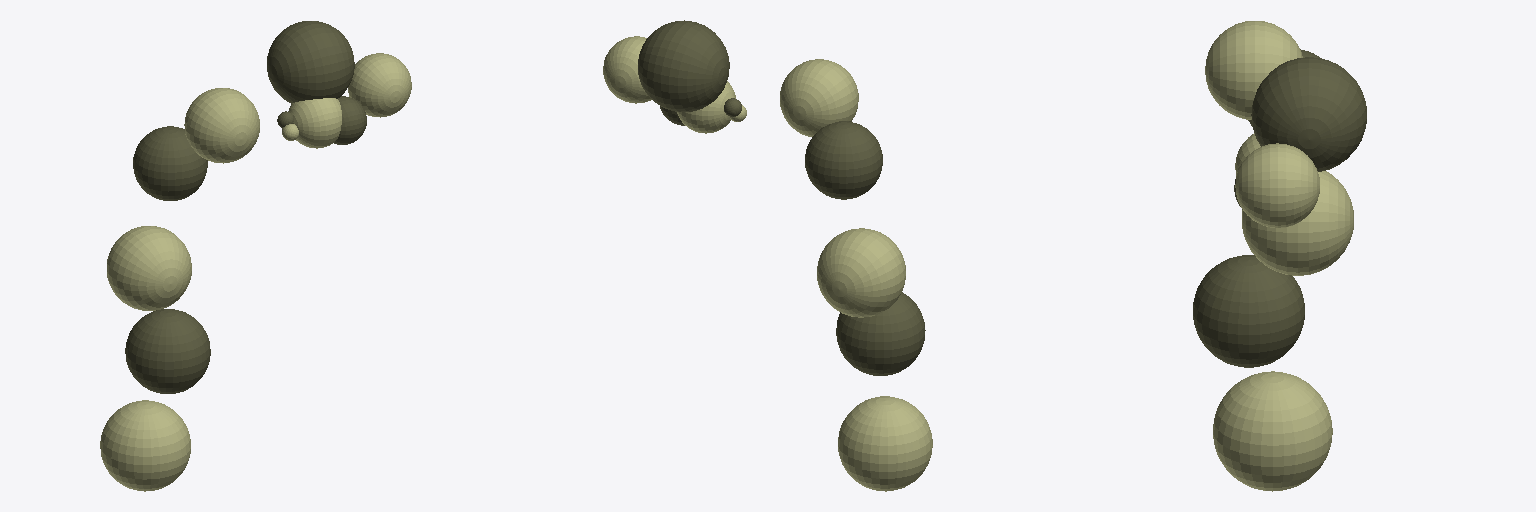
robot.urdf — panda:
<?xml version='1.0' encoding='utf-8'?>
<robot xmlns:drake="http://drake.mit.edu" name="panda">
    <link name="world" /><joint name="world_to_base" type="fixed"><parent link="world" /><child link="panda_link0" /><origin xyz="0 0 0" rpy="0 0 0" /></joint>
  <link name="panda_link0">
    <inertial>
      <mass value="2.92" />
      <origin xyz="-0.025566 -2.88e-05 0.057332" rpy="0 0 0" />
      <inertia ixx="0.00782229414331" ixy="-1.56191622996e-05" ixz="-0.00126005738123" iyy="0.0109027971813" iyz="1.08233858202e-05" izz="0.0102355503949" />
    </inertial>
    <collision><origin rpy="0 0 0" xyz="0 0 0" /><geometry><sphere radius="0.001" /></geometry></collision></link>
  <link name="panda_link1">
    <inertial>
      <mass value="2.74" />
      <origin xyz="0 -0.0324958 -0.0675818" rpy="0 0 0" />
      <inertia ixx="0.0180416958283" ixy="0.0" ixz="0.0" iyy="0.0159136071891" iyz="0.0046758424612" izz="0.00620690827127" />
    </inertial>
    <collision><origin rpy="0 0 0" xyz="0 0 0" /><geometry><sphere radius="0.001" /></geometry></collision></link>
  <joint name="panda_joint1" type="revolute">
    <origin rpy="0 0 0" xyz="0 0 0.333" />
    <parent link="panda_link0" />
    <child link="panda_link1" />
    <axis xyz="0 0 1" />
    <limit effort="87" lower="-2.8973" upper="2.8973" velocity="2.1750" />
  </joint>
  <link name="panda_link2">
    <inertial>
      <mass value="2.74" />
      <origin xyz="0 -0.06861 0.0322285" rpy="0 0 0" />
      <inertia ixx="0.0182856182281" ixy="0.0" ixz="0.0" iyy="0.00621358421175" iyz="-0.00472844221905" izz="0.0161514346309" />
    </inertial>
    <collision><origin rpy="0 0 0" xyz="0 0 0" /><geometry><sphere radius="0.001" /></geometry></collision></link>
  <joint name="panda_joint2" type="revolute">
    <origin rpy="-1.57079632679 0 0" xyz="0 0 0" />
    <parent link="panda_link1" />
    <child link="panda_link2" />
    <axis xyz="0 0 1" />
    <limit effort="87" lower="-1.7628" upper="1.7628" velocity="2.1750" />
  </joint>
  <link name="panda_link3">
    <inertial>
      <mass value="2.38" />
      <origin xyz="0.0469893 0.0316374 -0.031704" rpy="0 0 0" />
      <inertia ixx="0.00771376630908" ixy="-0.00248490625138" ixz="-0.00332147581033" iyy="0.00989108008727" iyz="-0.00217796151484" izz="0.00811723558464" />
    </inertial>
    <collision><origin rpy="0 0 0" xyz="0 0 0" /><geometry><sphere radius="0.001" /></geometry></collision></link>
  <joint name="panda_joint3" type="revolute">
    <origin rpy="1.57079632679 0 0" xyz="0 -0.316 0" />
    <parent link="panda_link2" />
    <child link="panda_link3" />
    <axis xyz="0 0 1" />
    <limit effort="87" lower="-2.8973" upper="2.8973" velocity="2.1750" />
  </joint>
  <link name="panda_link4">
    <inertial>
      <mass value="2.38" />
      <origin xyz="-0.0360446 0.0336853 0.031882" rpy="0 0 0" />
      <inertia ixx="0.00799663881132" ixy="0.00347095570217" ixz="-0.00241222942995" iyy="0.00825390705278" iyz="0.00235774044121" izz="0.0102515004345" />
    </inertial>
    <collision><origin rpy="0 0 0" xyz="0 0 0" /><geometry><sphere radius="0.001" /></geometry></collision></link>
  <joint name="panda_joint4" type="revolute">
    <origin rpy="1.57079632679 0 0" xyz="0.0825 0 0" />
    <parent link="panda_link3" />
    <child link="panda_link4" />
    <axis xyz="0 0 1" />
    <limit effort="87" lower="-3.0718" upper="-0.0698" velocity="2.1750" />
  </joint>
  <link name="panda_link5">
    <inertial>
      <mass value="2.74" />
      <origin xyz="0 0.0610427 -0.104176" rpy="0 0 0" />
      <inertia ixx="0.030371374513" ixy="6.50283587108e-07" ixz="-1.05129179916e-05" iyy="0.0288752887402" iyz="-0.00775653445787" izz="0.00444134056164" />
    </inertial>
    <collision><origin rpy="0 0 0" xyz="0 0 0" /><geometry><sphere radius="0.001" /></geometry></collision></link>
  <joint name="panda_joint5" type="revolute">
    <origin rpy="-1.57079632679 0 0" xyz="-0.0825 0.384 0" />
    <parent link="panda_link4" />
    <child link="panda_link5" />
    <axis xyz="0 0 1" />
    <limit effort="12" lower="-2.8973" upper="2.8973" velocity="2.6100" />
  </joint>
  <link name="panda_link6">
    <inertial>
      <mass value="1.55" />
      <origin xyz="0.0510509 0.009108 0.0106343" rpy="0 0 0" />
      <inertia ixx="0.00303336450376" ixy="-0.000437276865508" ixz="0.000629257294877" iyy="0.00404479911567" iyz="0.000130472021025" izz="0.00558234286039" />
    </inertial>
    <collision><origin rpy="0 0 0" xyz="0 0 0" /><geometry><sphere radius="0.001" /></geometry></collision></link>
  <joint name="panda_joint6" type="revolute">
    <origin rpy="1.57079632679 0 0" xyz="0 0 0" />
    <parent link="panda_link5" />
    <child link="panda_link6" />
    <axis xyz="0 0 1" />
    <limit effort="12" lower="-0.0175" upper="3.7525" velocity="2.610" />
  </joint>
  <link name="panda_link7">
    <inertial>
      <mass value="0.54" />
      <origin xyz="0.0109695 0.0107965 0.0650411" rpy="0 0 0" />
      <inertia ixx="0.000888868887021" ixy="-0.00012239074652" ixz="3.98699829666e-05" iyy="0.000888001373233" iyz="-9.33825115206e-05" izz="0.0007176834609" />
    </inertial>
    <collision><origin rpy="0 0 0" xyz="0 0 0" /><geometry><sphere radius="0.001" /></geometry></collision></link>
  <joint name="panda_joint7" type="revolute">
    <origin rpy="1.57079632679 0 0" xyz="0.088 0 0" />
    <parent link="panda_link6" />
    <child link="panda_link7" />
    <axis xyz="0 0 1" />
    <limit effort="12" lower="-2.8973" upper="2.8973" velocity="2.610" />
  </joint>
  <!-- <link name="panda_link8">
    <collision>
      <origin rpy="0 0 0" xyz="0.042 0.042 -0.02"/>
      <geometry>
        <sphere radius="0.04"/>
      </geometry>
            <drake:proximity_properties>
        <drake:rigid_hydroelastic/>
        <drake:mesh_resolution_hint value="1.5"/>
        <drake:hunt_crossley_dissipation value="1.25"/>
      </drake:proximity_properties>
    </collision>
  </link> -->
  <!-- <joint name="panda_joint8" type="fixed">
    <origin rpy="0 0 0" xyz="0 0 0.107"/>
    <parent link="panda_link7"/>
    <child link="panda_link8"/>
  </joint>
  <joint name="panda_hand_joint" type="fixed">
    <parent link="panda_link8"/>
    <child link="panda_hand"/>
    <origin rpy="0 0 -0.785398163397" xyz="0 0 0"/>
  </joint> -->
  <joint name="panda_hand_joint" type="fixed">
    <origin rpy="0 0 -0.785398163397" xyz="0 0 0.107" />
    <parent link="panda_link7" />
    <child link="panda_hand" />
  </joint>
  <!-- <joint name="panda_hand_joint" type="fixed">
    <parent link="panda_link8"/>
    <child link="panda_hand"/>
    <origin rpy="0 0 -0.785398163397" xyz="0 0 0"/>
  </joint> -->
  <transmission name="panda_tran1">
    <type>transmission_interface/SimpleTransmission</type>
    <joint name="panda_joint1">
      <hardwareInterface>PositionJointInterface</hardwareInterface>
    </joint>
    <actuator name="panda_motor1">
      <hardwareInterface>PositionJointInterface</hardwareInterface>
      <mechanicalReduction>1</mechanicalReduction>
      <drake:gear_ratio value="100.0" />
      <drake:rotor_inertia value="0.0000605721456" />
    </actuator>
  </transmission>
  <transmission name="panda_tran2">
    <type>transmission_interface/SimpleTransmission</type>
    <joint name="panda_joint2">
      <hardwareInterface>PositionJointInterface</hardwareInterface>
    </joint>
    <actuator name="panda_motor2">
      <hardwareInterface>PositionJointInterface</hardwareInterface>
      <mechanicalReduction>1</mechanicalReduction>
      <drake:gear_ratio value="100.0" />
      <drake:rotor_inertia value="0.0000605721456" />
    </actuator>
  </transmission>
  <transmission name="panda_tran3">
    <type>transmission_interface/SimpleTransmission</type>
    <joint name="panda_joint3">
      <hardwareInterface>PositionJointInterface</hardwareInterface>
    </joint>
    <actuator name="panda_motor3">
      <hardwareInterface>PositionJointInterface</hardwareInterface>
      <mechanicalReduction>1</mechanicalReduction>
      <drake:gear_ratio value="100.0" />
      <drake:rotor_inertia value="0.0000462474144" />
    </actuator>
  </transmission>
  <transmission name="panda_tran4">
    <type>transmission_interface/SimpleTransmission</type>
    <joint name="panda_joint4">
      <hardwareInterface>PositionJointInterface</hardwareInterface>
    </joint>
    <actuator name="panda_motor4">
      <hardwareInterface>PositionJointInterface</hardwareInterface>
      <mechanicalReduction>1</mechanicalReduction>
      <drake:gear_ratio value="100.0" />
      <drake:rotor_inertia value="0.0000462474144" />
    </actuator>
  </transmission>
  <transmission name="panda_tran5">
    <type>transmission_interface/SimpleTransmission</type>
    <joint name="panda_joint5">
      <hardwareInterface>PositionJointInterface</hardwareInterface>
    </joint>
    <actuator name="panda_motor5">
      <hardwareInterface>PositionJointInterface</hardwareInterface>
      <mechanicalReduction>1</mechanicalReduction>
      <drake:gear_ratio value="100.0" />
      <drake:rotor_inertia value="0.0000205544064" />
    </actuator>
  </transmission>
  <transmission name="panda_tran6">
    <type>transmission_interface/SimpleTransmission</type>
    <joint name="panda_joint6">
      <hardwareInterface>PositionJointInterface</hardwareInterface>
    </joint>
    <actuator name="panda_motor6">
      <hardwareInterface>PositionJointInterface</hardwareInterface>
      <mechanicalReduction>1</mechanicalReduction>
      <drake:gear_ratio value="100.0" />
      <drake:rotor_inertia value="0.0000205544064" />
    </actuator>
  </transmission>
  <transmission name="panda_tran7">
    <type>transmission_interface/SimpleTransmission</type>
    <joint name="panda_joint7">
      <hardwareInterface>PositionJointInterface</hardwareInterface>
    </joint>
    <actuator name="panda_motor7">
      <hardwareInterface>PositionJointInterface</hardwareInterface>
      <mechanicalReduction>1</mechanicalReduction>
      <drake:gear_ratio value="100.0" />
      <drake:rotor_inertia value="0.0000205544064" />
    </actuator>
  </transmission>
  <link name="panda_hand">
    <inertial>
      <mass value="0.73" />
      <origin xyz="0 0.0015244 0.0275912" rpy="0 0 0" />
      <inertia ixx="0.00278560230025" ixy="0.0" ixz="0.0" iyy="0.000400033405336" iyz="0.0" izz="0.00256378041832" />
    </inertial>
    <collision><origin rpy="0 0 0" xyz="0 0 0" /><geometry><sphere radius="0.001" /></geometry></collision></link>
  <link name="panda_leftfinger">
    <inertial>
      <mass value="0.1" />
      <origin xyz="0 0.0145644 0.0227941" rpy="0 0 0" />
      <inertia ixx="3.01220925051e-05" ixy="0.0" ixz="0.0" iyy="2.95873808038e-05" iyz="0.0" izz="6.95125211657e-06" />
    </inertial>
    <collision><origin rpy="0 0 0" xyz="0 0 0" /><geometry><sphere radius="0.001" /></geometry></collision></link>
  <link name="panda_rightfinger">
    <inertial>
      <mass value="0.1" />
      <origin xyz="0 0.0145644 0.0227941" rpy="0 0 3.14159265359" />
      <inertia ixx="3.01220925051e-05" ixy="0.0" ixz="0.0" iyy="2.95873808038e-05" iyz="0.0" izz="6.95125211657e-06" />
    </inertial>
    <collision><origin rpy="0 0 0" xyz="0 0 0" /><geometry><sphere radius="0.001" /></geometry></collision></link>
  <joint name="panda_finger_joint1" type="fixed">
    <parent link="panda_hand" />
    <child link="panda_leftfinger" />
    <origin rpy="0 0 3.14" xyz="0 0.0 0.0584" />
    <axis xyz="0 1 0" />
    <!-- <limit effort="20" lower="0.0" upper="0.04" velocity="0.2"/> -->
  </joint>
  <joint name="panda_finger_joint2" type="fixed">
    <parent link="panda_hand" />
    <child link="panda_rightfinger" />
    <origin rpy="0 0 0" xyz="0 0 0.0584" />
    <axis xyz="0 -1 0" />
    <!-- <limit effort="20" lower="0.0" upper="0.04" velocity="0.2"/> -->
  </joint>
  <!-- <transmission name="panda_finger_tran1">
    <type>transmission_interface/SimpleTransmission</type>
    <joint name="panda_finger_joint1">
      <hardwareInterface>PositionJointInterface</hardwareInterface>
    </joint>
    <actuator name="panda_finger_motor1">
      <hardwareInterface>PositionJointInterface</hardwareInterface>
      <mechanicalReduction>1</mechanicalReduction>
    </actuator>
  </transmission>
  <transmission name="panda_finger_tran2">
    <type>transmission_interface/SimpleTransmission</type>
    <joint name="panda_finger_joint2">
      <hardwareInterface>PositionJointInterface</hardwareInterface>
    </joint>
    <actuator name="panda_finger_motor2">
      <hardwareInterface>PositionJointInterface</hardwareInterface>
      <mechanicalReduction>1</mechanicalReduction>
    </actuator>
  </transmission> -->
  <!-- <drake:collision_filter_group name="group_link57">
    <drake:member link="panda_link5"/>
    <drake:member link="panda_link7"/>
    <drake:ignored_collision_filter_group name="group_link57"/>
  </drake:collision_filter_group> -->
  <!-- <drake:collision_filter_group name="group_link68">
    <drake:member link="panda_link6"/>
    <drake:member link="panda_link8"/>
    <drake:ignored_collision_filter_group name="group_link68"/>
  </drake:collision_filter_group> -->
  <link name="panda_link0_sphere1"><inertial><origin xyz="0 0 0" rpy="0 0 0" /><mass value="0.1" /><inertia ixx="0.01" ixy="0" ixz="0" iyy="0.01" iyz="0" izz="0.01" /></inertial><visual><origin rpy="0 0 0" xyz="0 0 0" /><geometry><sphere radius="0.08440761268138885" /></geometry><material name="color_panda_link0_sphere1"><color rgba="0.7200000000000001 0.7200000000000001 0.54 1.0" /></material></visual><collision><origin rpy="0 0 0" xyz="0 0 0" /><geometry><sphere radius="0.08440761268138885" /></geometry></collision></link><joint name="panda_link0_to_panda_link0_sphere1" type="fixed"><parent link="panda_link0" /><child link="panda_link0_sphere1" /><origin xyz="-0.02855585888028145 -0.0012542614713311195 0.06304801255464554" rpy="0 0 0" /></joint><link name="panda_link1_sphere1"><inertial><origin xyz="0 0 0" rpy="0 0 0" /><mass value="0.1" /><inertia ixx="0.01" ixy="0" ixz="0" iyy="0.01" iyz="0" izz="0.01" /></inertial><visual><origin rpy="0 0 0" xyz="0 0 0" /><geometry><sphere radius="0.07929679751396179" /></geometry><material name="color_panda_link1_sphere1"><color rgba="0.4 0.4 0.3 1.0" /></material></visual><collision><origin rpy="0 0 0" xyz="0 0 0" /><geometry><sphere radius="0.07929679751396179" /></geometry></collision></link><joint name="panda_link1_to_panda_link1_sphere1" type="fixed"><parent link="panda_link1" /><child link="panda_link1_sphere1" /><origin xyz="-0.00012123530905228108 -0.034616656601428986 -0.07060098648071289" rpy="0 0 0" /></joint><link name="panda_link2_sphere1"><inertial><origin xyz="0 0 0" rpy="0 0 0" /><mass value="0.1" /><inertia ixx="0.01" ixy="0" ixz="0" iyy="0.01" iyz="0" izz="0.01" /></inertial><visual><origin rpy="0 0 0" xyz="0 0 0" /><geometry><sphere radius="0.07931088656187057" /></geometry><material name="color_panda_link2_sphere1"><color rgba="0.7200000000000001 0.7200000000000001 0.54 1.0" /></material></visual><collision><origin rpy="0 0 0" xyz="0 0 0" /><geometry><sphere radius="0.07931088656187057" /></geometry></collision></link><joint name="panda_link2_to_panda_link2_sphere1" type="fixed"><parent link="panda_link2" /><child link="panda_link2_sphere1" /><origin xyz="-0.0004100113292224705 -0.07135157287120819 0.034226108342409134" rpy="0 0 0" /></joint><link name="panda_link3_sphere1"><inertial><origin xyz="0 0 0" rpy="0 0 0" /><mass value="0.1" /><inertia ixx="0.01" ixy="0" ixz="0" iyy="0.01" iyz="0" izz="0.01" /></inertial><visual><origin rpy="0 0 0" xyz="0 0 0" /><geometry><sphere radius="0.0694783478975296" /></geometry><material name="color_panda_link3_sphere1"><color rgba="0.4 0.4 0.3 1.0" /></material></visual><collision><origin rpy="0 0 0" xyz="0 0 0" /><geometry><sphere radius="0.0694783478975296" /></geometry></collision></link><joint name="panda_link3_to_panda_link3_sphere1" type="fixed"><parent link="panda_link3" /><child link="panda_link3_sphere1" /><origin xyz="0.04010092467069626 0.026264259591698647 -0.037439361214637756" rpy="0 0 0" /></joint><link name="panda_link4_sphere1"><inertial><origin xyz="0 0 0" rpy="0 0 0" /><mass value="0.1" /><inertia ixx="0.01" ixy="0" ixz="0" iyy="0.01" iyz="0" izz="0.01" /></inertial><visual><origin rpy="0 0 0" xyz="0 0 0" /><geometry><sphere radius="0.07021743059158325" /></geometry><material name="color_panda_link4_sphere1"><color rgba="0.7200000000000001 0.7200000000000001 0.54 1.0" /></material></visual><collision><origin rpy="0 0 0" xyz="0 0 0" /><geometry><sphere radius="0.07021743059158325" /></geometry></collision></link><joint name="panda_link4_to_panda_link4_sphere1" type="fixed"><parent link="panda_link4" /><child link="panda_link4_sphere1" /><origin xyz="-0.04299751669168472 0.03819198161363602 0.026147393509745598" rpy="0 0 0" /></joint><link name="panda_link5_sphere1"><inertial><origin xyz="0 0 0" rpy="0 0 0" /><mass value="0.1" /><inertia ixx="0.01" ixy="0" ixz="0" iyy="0.01" iyz="0" izz="0.01" /></inertial><visual><origin rpy="0 0 0" xyz="0 0 0" /><geometry><sphere radius="0.08151736855506897" /></geometry><material name="color_panda_link5_sphere1"><color rgba="0.4 0.4 0.3 1.0" /></material></visual><collision><origin rpy="0 0 0" xyz="0 0 0" /><geometry><sphere radius="0.08151736855506897" /></geometry></collision></link><joint name="panda_link5_to_panda_link5_sphere1" type="fixed"><parent link="panda_link5" /><child link="panda_link5_sphere1" /><origin xyz="9.441138536203653e-05 0.05025618150830269 -0.11288139224052429" rpy="0 0 0" /></joint><link name="panda_link6_sphere1"><inertial><origin xyz="0 0 0" rpy="0 0 0" /><mass value="0.1" /><inertia ixx="0.01" ixy="0" ixz="0" iyy="0.01" iyz="0" izz="0.01" /></inertial><visual><origin rpy="0 0 0" xyz="0 0 0" /><geometry><sphere radius="0.05967630445957184" /></geometry><material name="color_panda_link6_sphere1"><color rgba="0.7200000000000001 0.7200000000000001 0.54 1.0" /></material></visual><collision><origin rpy="0 0 0" xyz="0 0 0" /><geometry><sphere radius="0.05967630445957184" /></geometry></collision></link><joint name="panda_link6_to_panda_link6_sphere1" type="fixed"><parent link="panda_link6" /><child link="panda_link6_sphere1" /><origin xyz="0.05295419692993164 0.008698107674717903 -0.005880602169781923" rpy="0 0 0" /></joint><link name="panda_link7_sphere1"><inertial><origin xyz="0 0 0" rpy="0 0 0" /><mass value="0.1" /><inertia ixx="0.01" ixy="0" ixz="0" iyy="0.01" iyz="0" izz="0.01" /></inertial><visual><origin rpy="0 0 0" xyz="0 0 0" /><geometry><sphere radius="0.04541919752955437" /></geometry><material name="color_panda_link7_sphere1"><color rgba="0.4 0.4 0.3 1.0" /></material></visual><collision><origin rpy="0 0 0" xyz="0 0 0" /><geometry><sphere radius="0.04541919752955437" /></geometry></collision></link><joint name="panda_link7_to_panda_link7_sphere1" type="fixed"><parent link="panda_link7" /><child link="panda_link7_sphere1" /><origin xyz="0.009963637217879295 0.01009860448539257 0.07991600036621094" rpy="0 0 0" /></joint><link name="panda_hand_sphere1"><inertial><origin xyz="0 0 0" rpy="0 0 0" /><mass value="0.1" /><inertia ixx="0.01" ixy="0" ixz="0" iyy="0.01" iyz="0" izz="0.01" /></inertial><visual><origin rpy="0 0 0" xyz="0 0 0" /><geometry><sphere radius="0.05421537533402443" /></geometry><material name="color_panda_hand_sphere1"><color rgba="0.7200000000000001 0.7200000000000001 0.54 1.0" /></material></visual><collision><origin rpy="0 0 0" xyz="0 0 0" /><geometry><sphere radius="0.05421537533402443" /></geometry></collision></link><joint name="panda_hand_to_panda_hand_sphere1" type="fixed"><parent link="panda_hand" /><child link="panda_hand_sphere1" /><origin xyz="-0.00022384208568837494 -0.0003246626874897629 0.022510187700390816" rpy="0 0 0" /></joint><link name="panda_leftfinger_sphere1"><inertial><origin xyz="0 0 0" rpy="0 0 0" /><mass value="0.1" /><inertia ixx="0.01" ixy="0" ixz="0" iyy="0.01" iyz="0" izz="0.01" /></inertial><visual><origin rpy="0 0 0" xyz="0 0 0" /><geometry><sphere radius="0.016617465764284134" /></geometry><material name="color_panda_leftfinger_sphere1"><color rgba="0.4 0.4 0.3 1.0" /></material></visual><collision><origin rpy="0 0 0" xyz="0 0 0" /><geometry><sphere radius="0.016617465764284134" /></geometry></collision></link><joint name="panda_leftfinger_to_panda_leftfinger_sphere1" type="fixed"><parent link="panda_leftfinger" /><child link="panda_leftfinger_sphere1" /><origin xyz="-2.137857700290624e-05 0.012126101180911064 0.02376922219991684" rpy="0 0 0" /></joint><link name="panda_rightfinger_sphere1"><inertial><origin xyz="0 0 0" rpy="0 0 0" /><mass value="0.1" /><inertia ixx="0.01" ixy="0" ixz="0" iyy="0.01" iyz="0" izz="0.01" /></inertial><visual><origin rpy="0 0 0" xyz="0 0 0" /><geometry><sphere radius="0.016617465764284134" /></geometry><material name="color_panda_rightfinger_sphere1"><color rgba="0.7200000000000001 0.7200000000000001 0.54 1.0" /></material></visual><collision><origin rpy="0 0 0" xyz="0 0 0" /><geometry><sphere radius="0.016617465764284134" /></geometry></collision></link><joint name="panda_rightfinger_to_panda_rightfinger_sphere1" type="fixed"><parent link="panda_rightfinger" /><child link="panda_rightfinger_sphere1" /><origin xyz="-2.137857700290624e-05 0.012126101180911064 0.02376922219991684" rpy="0 0 0" /></joint></robot>

--- What the picture shows (computed from the rendered views, not written in the file) ---
The picture shows the robot from 3 angles, left to right: view 1: azimuth 30°, elevation 25°; view 2: azimuth 150°, elevation 25°; view 3: azimuth 270°, elevation 25°; orthographic projection.
Model panda with 23 links and 22 joints (7 revolute, 15 fixed), rooted at world, posed all joints at 0 but 1 set to mid-range because 0 is outside their limits (panda_joint4 = -1.57).
Visible links, largest first — view 1: panda_link0_sphere1, panda_link5_sphere1, panda_link2_sphere1, panda_link1_sphere1, panda_link4_sphere1, panda_link3_sphere1, panda_link6_sphere1, panda_hand_sphere1, panda_link7_sphere1; view 2: panda_link0_sphere1, panda_link5_sphere1, panda_link2_sphere1, panda_link1_sphere1, panda_link3_sphere1, panda_link4_sphere1, panda_link6_sphere1, panda_hand_sphere1; view 3: panda_link0_sphere1, panda_link1_sphere1, panda_link5_sphere1, panda_link2_sphere1, panda_link4_sphere1, panda_link6_sphere1.
Boxes of the visible links, box(x1,y1,x2,y2) form: panda_link0_sphere1: box(100, 400, 190, 491); panda_link5_sphere1: box(267, 21, 354, 103); panda_link2_sphere1: box(107, 226, 191, 310); panda_link1_sphere1: box(125, 309, 210, 393); panda_link4_sphere1: box(184, 88, 259, 163); panda_link3_sphere1: box(133, 126, 207, 200); panda_link6_sphere1: box(348, 53, 411, 117); panda_hand_sphere1: box(288, 98, 341, 148); panda_link7_sphere1: box(334, 96, 366, 144); panda_link0_sphere1: box(838, 396, 932, 491); panda_link5_sphere1: box(638, 20, 729, 112); panda_link2_sphere1: box(817, 228, 905, 317); panda_link1_sphere1: box(836, 292, 925, 375); panda_link3_sphere1: box(805, 121, 882, 199); panda_link4_sphere1: box(780, 59, 858, 136); panda_link6_sphere1: box(603, 36, 651, 103); panda_hand_sphere1: box(677, 81, 735, 133); panda_link0_sphere1: box(1213, 371, 1332, 491); panda_link1_sphere1: box(1193, 255, 1304, 367); panda_link5_sphere1: box(1251, 57, 1366, 171); panda_link2_sphere1: box(1242, 171, 1353, 275); panda_link4_sphere1: box(1205, 21, 1302, 119); panda_link6_sphere1: box(1235, 143, 1319, 227).
Size in the robot's own frame: 0.6478 by 0.2457 by 0.8343 metres.
Geometry: primitives only (box / cylinder / sphere), no mesh files.
